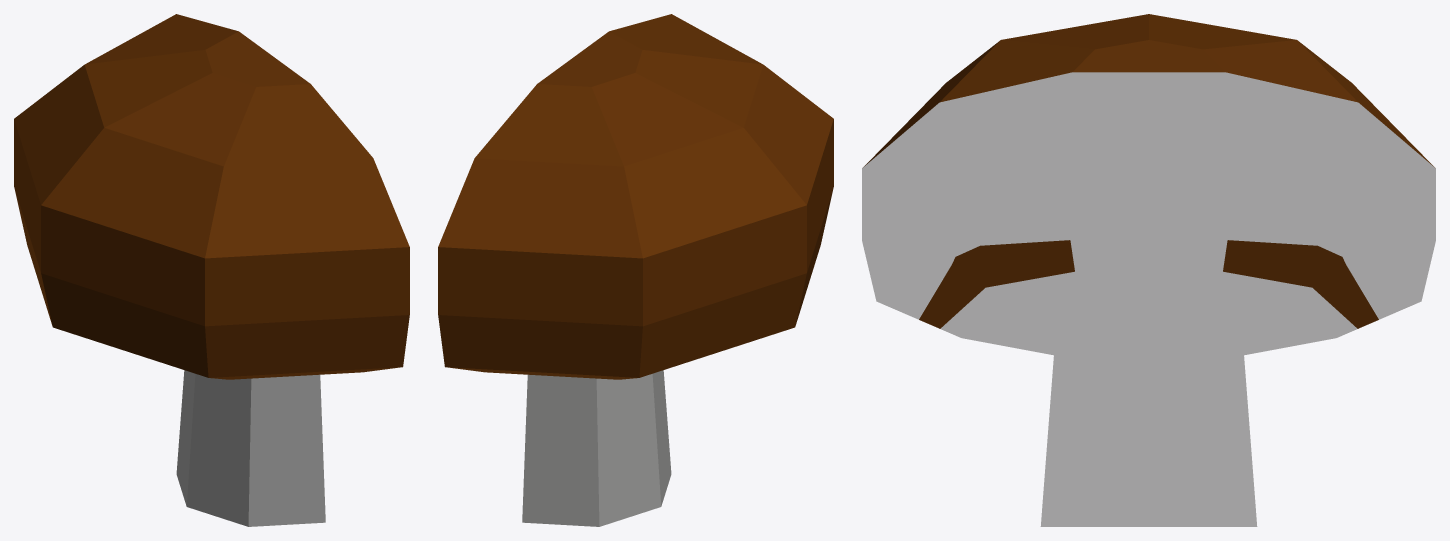
Rendered from mushroom02.gltf.
3 renders of one model, left to right at view 1: azimuth 30°, elevation 25°; view 2: azimuth 150°, elevation 25°; view 3: azimuth 270°, elevation 25°, orthographic. The views are drawn at different scales.
Parts seen in each view (by area): view 1: Cylinder; view 2: Cylinder; view 3: Cylinder.
Boxes of the visible parts, x1,y1,x2,y2 form: Cylinder: (14, 14, 409, 526); Cylinder: (438, 14, 833, 526); Cylinder: (862, 14, 1435, 526).
Bounding box in the file's own units: 0.023 × 0.0402 × 0.046.
1 material, 1 textured.
